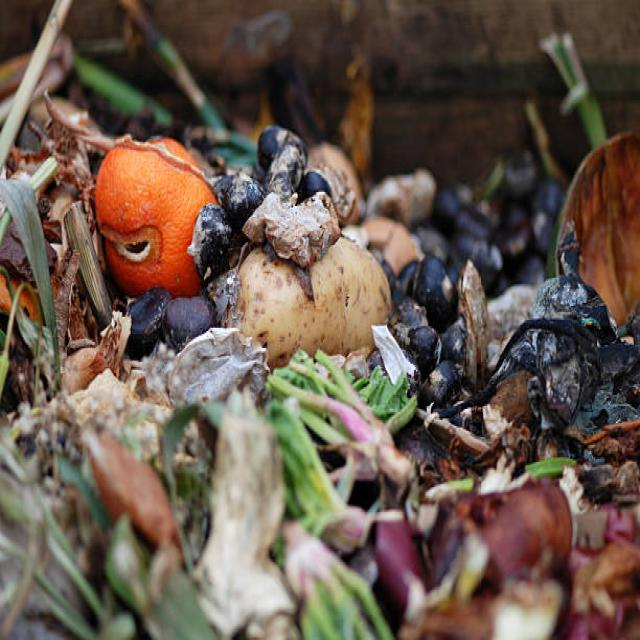trash: (20, 135, 612, 528)
